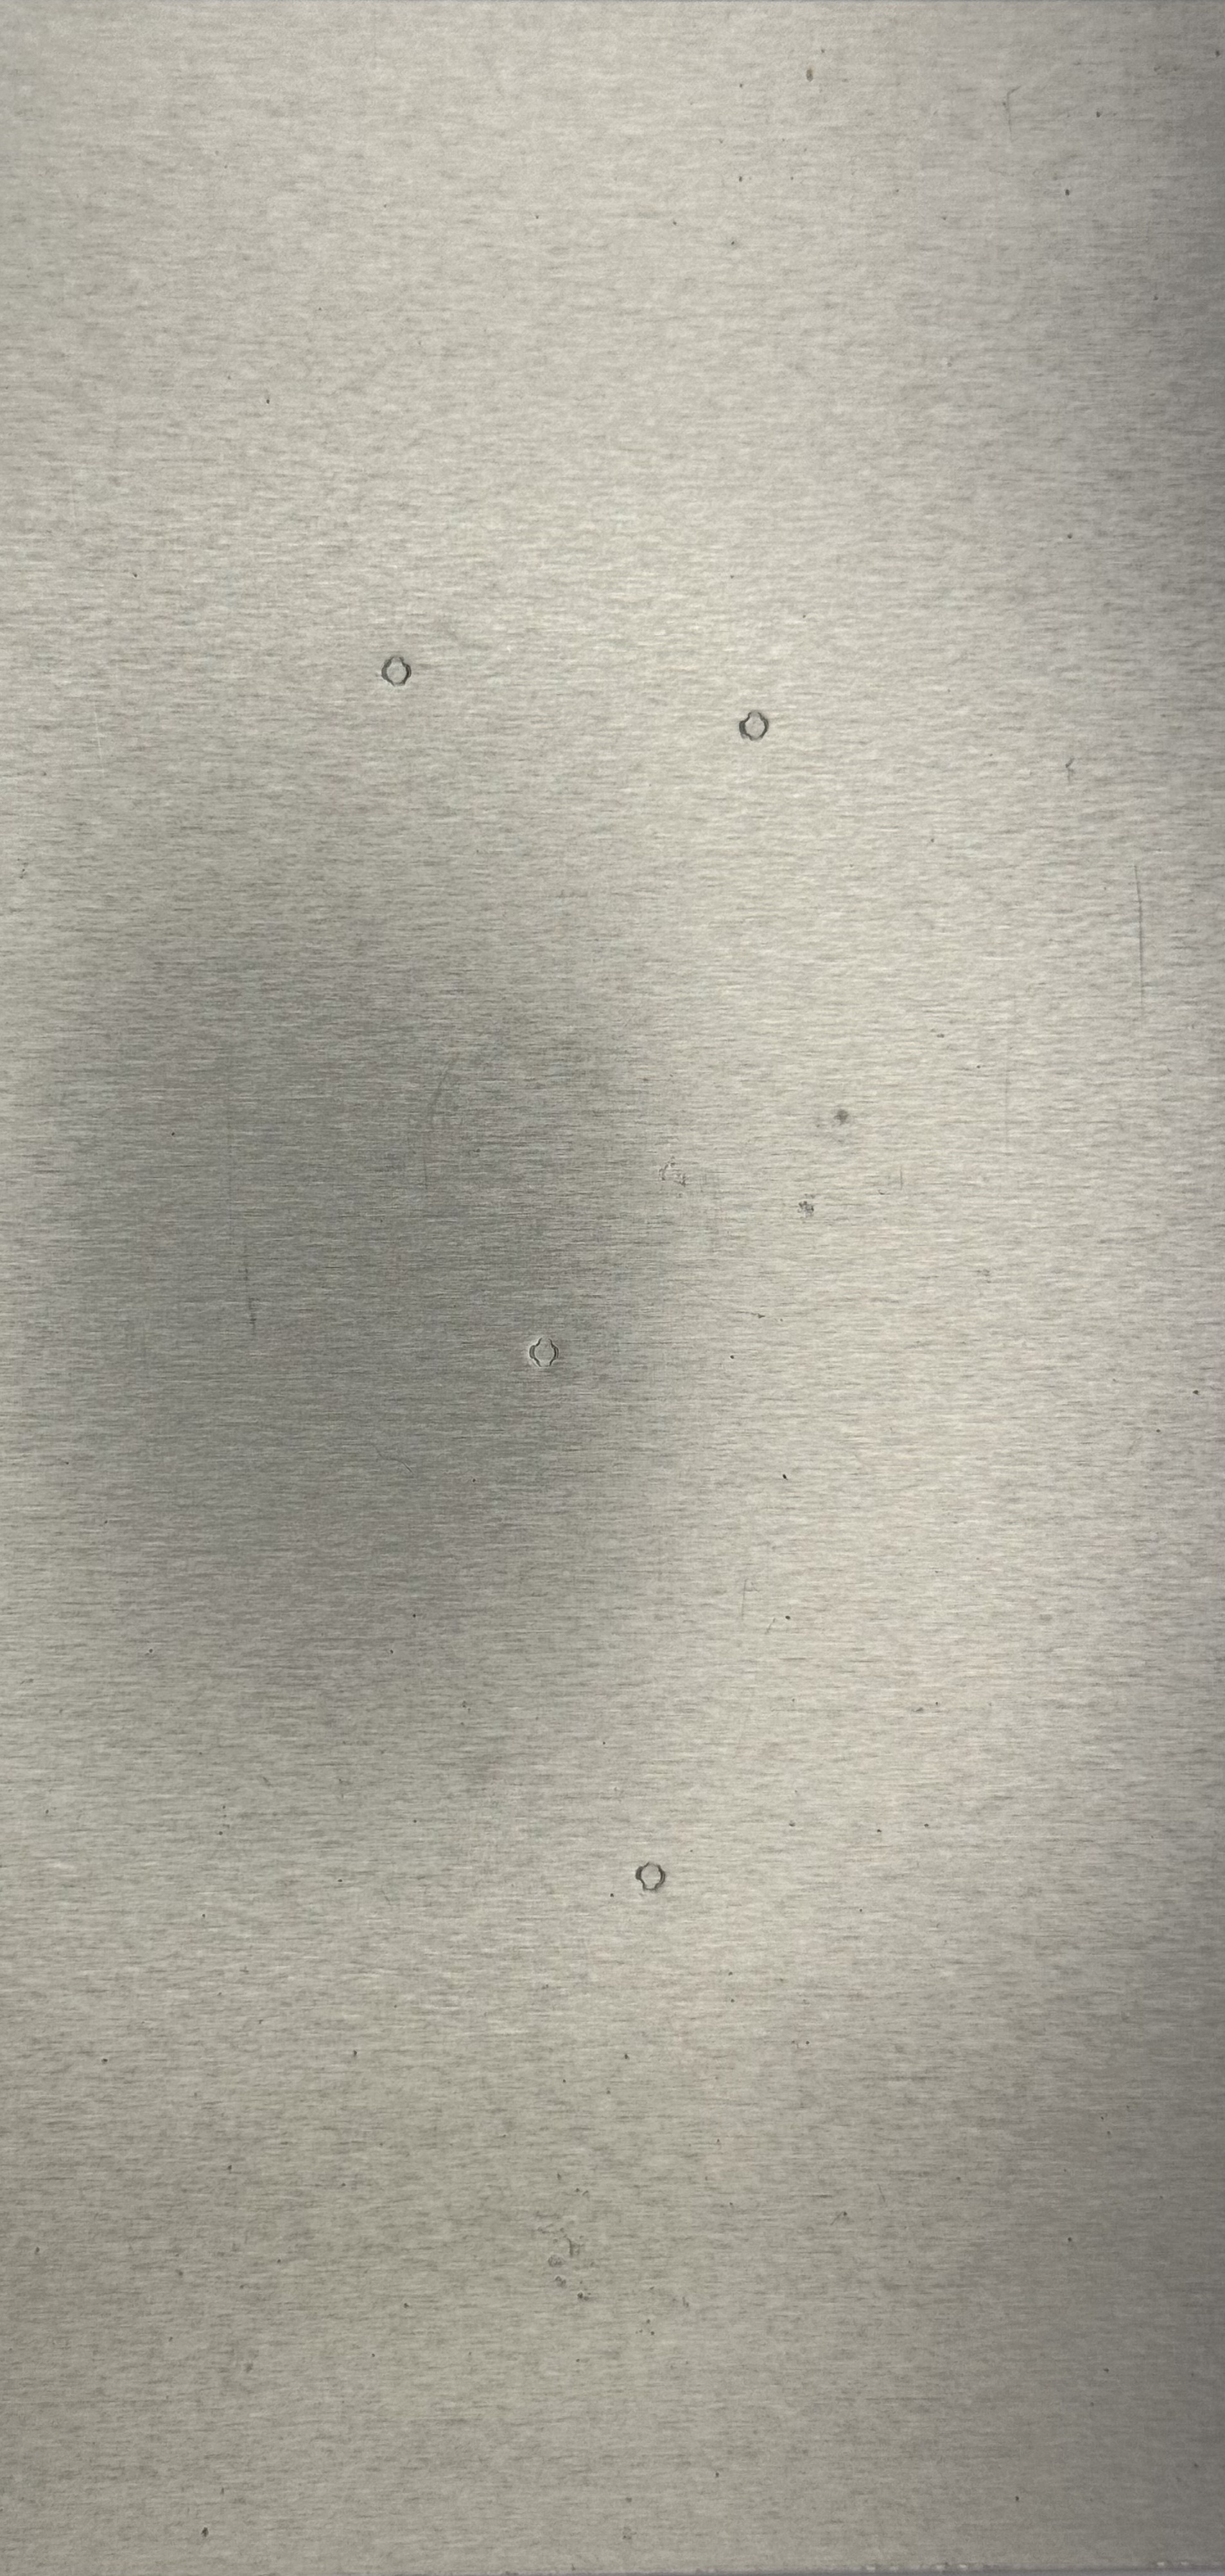Delle: (609, 1840, 708, 1920), (502, 1321, 596, 1388), (813, 1088, 882, 1158), (365, 647, 429, 701), (727, 701, 783, 751)
